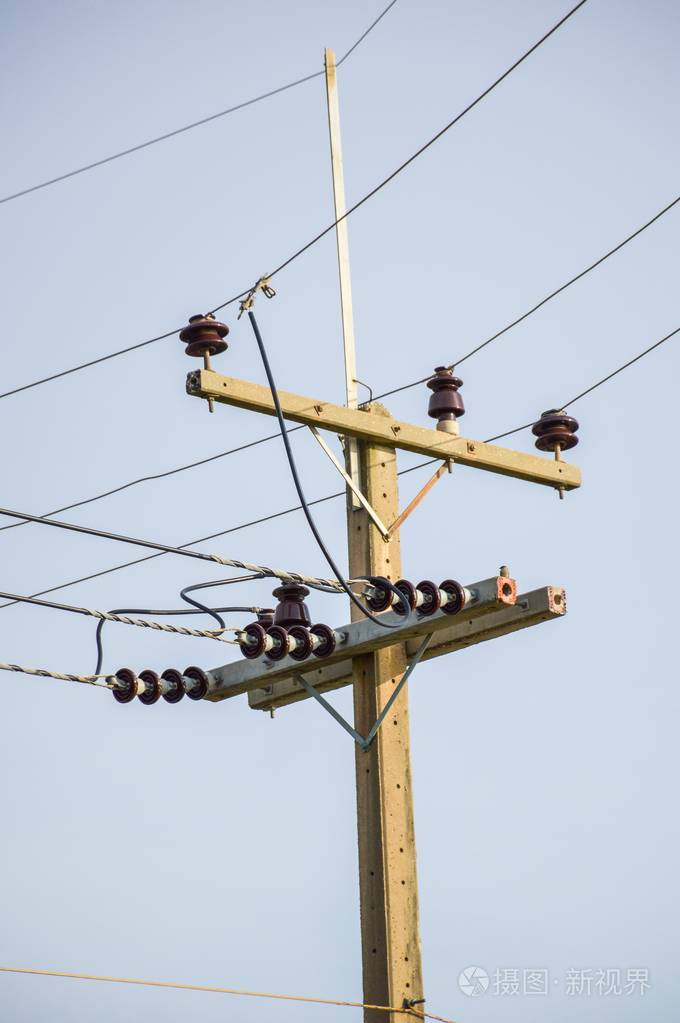insulator: (107, 662, 209, 707), (366, 572, 466, 616), (238, 618, 338, 660), (175, 317, 233, 357), (526, 411, 583, 449)
